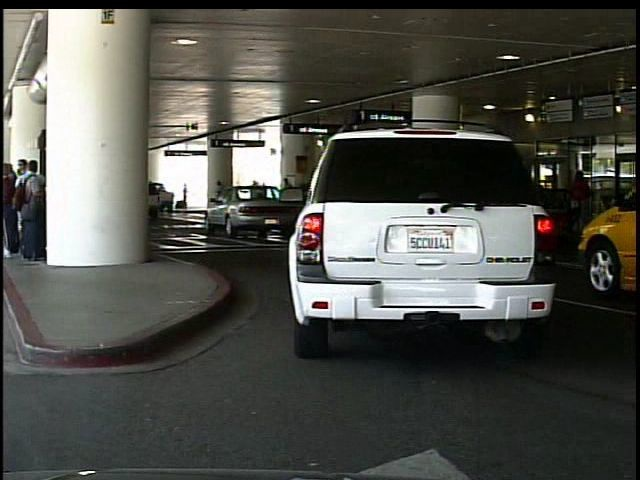person: (565, 166, 594, 205), (216, 177, 229, 211), (183, 183, 190, 210)
